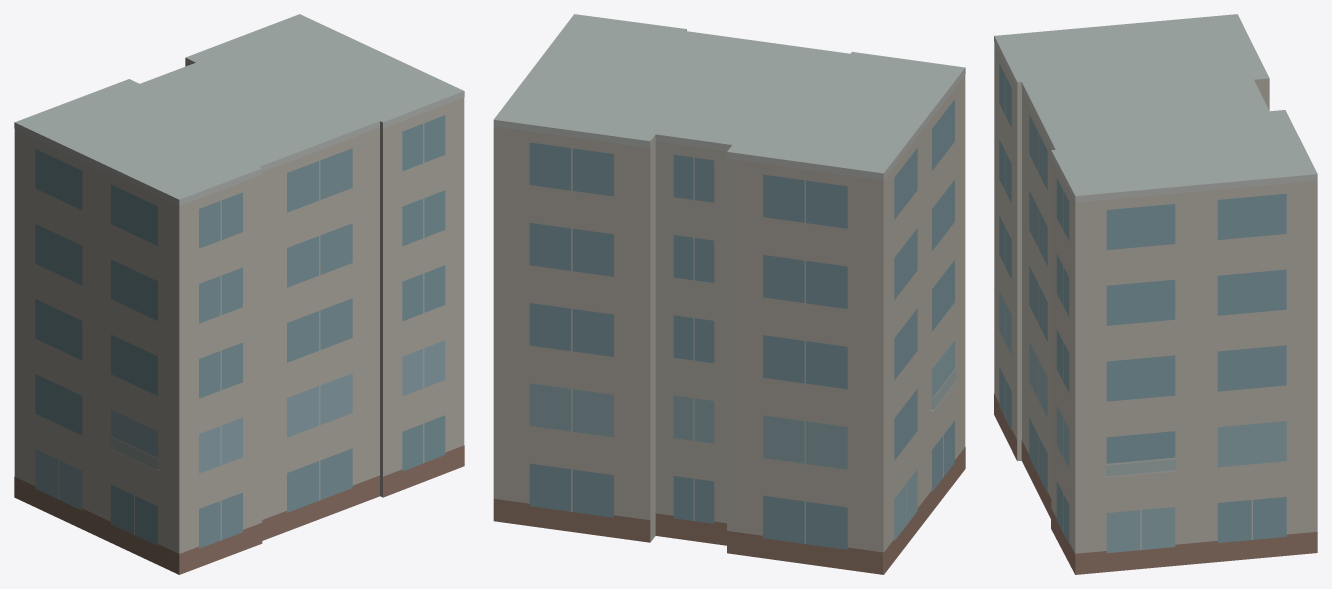
File: survey-upis-32721908.glb
The picture shows the model from 3 angles, left to right: view 1: azimuth 30°, elevation 25°; view 2: azimuth 150°, elevation 25°; view 3: azimuth 270°, elevation 25°; orthographic projection. The views are drawn at different scales.
Parts seen in each view (by area): view 1: survey-upis-32721908.tmp; view 2: survey-upis-32721908.tmp; view 3: survey-upis-32721908.tmp.
Part boxes in pixels (x1,y1,x2,y2): survey-upis-32721908.tmp: (14, 14, 464, 574); survey-upis-32721908.tmp: (493, 14, 965, 574); survey-upis-32721908.tmp: (994, 14, 1317, 574).
Size of the model in its own units: 14.86 by 14.4 by 11.16.
